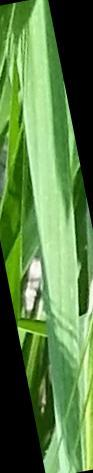Wheat: (42, 279, 87, 466), (28, 95, 64, 193), (15, 16, 61, 85), (31, 202, 76, 268)
